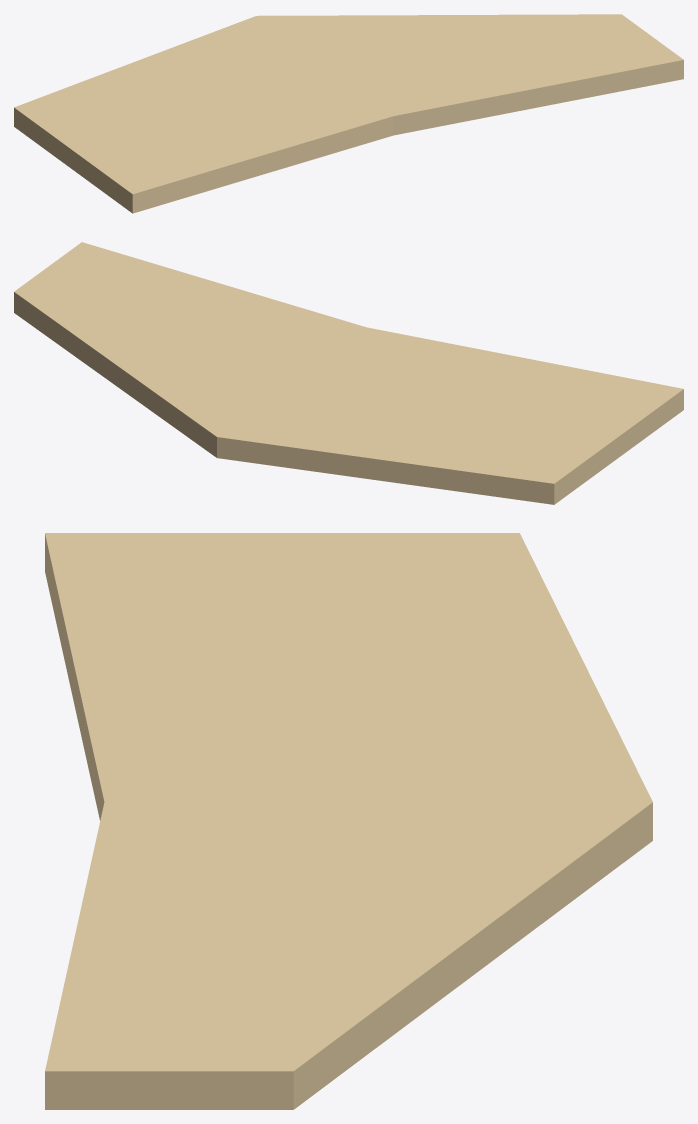
Rendered from object_bee_wing.glb.
3 renders of one model, top to bottom at view 1: azimuth 30°, elevation 25°; view 2: azimuth 150°, elevation 25°; view 3: azimuth 270°, elevation 25°, orthographic. The views are drawn at different scales.
Visible parts, largest first — view 1: bee_wing; view 2: bee_wing; view 3: bee_wing.
Part boxes in pixels (x1,y1,x2,y2): bee_wing: (14, 14, 683, 213); bee_wing: (14, 242, 683, 504); bee_wing: (45, 533, 652, 1109).
Size of the model in its own units: 0.00383 by 0.000128 by 0.00183.
